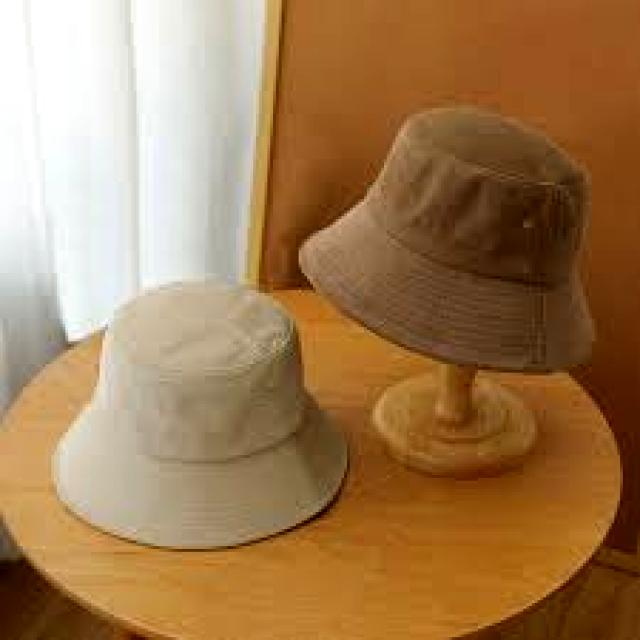hat: (55, 282, 347, 548), (299, 109, 594, 372)
